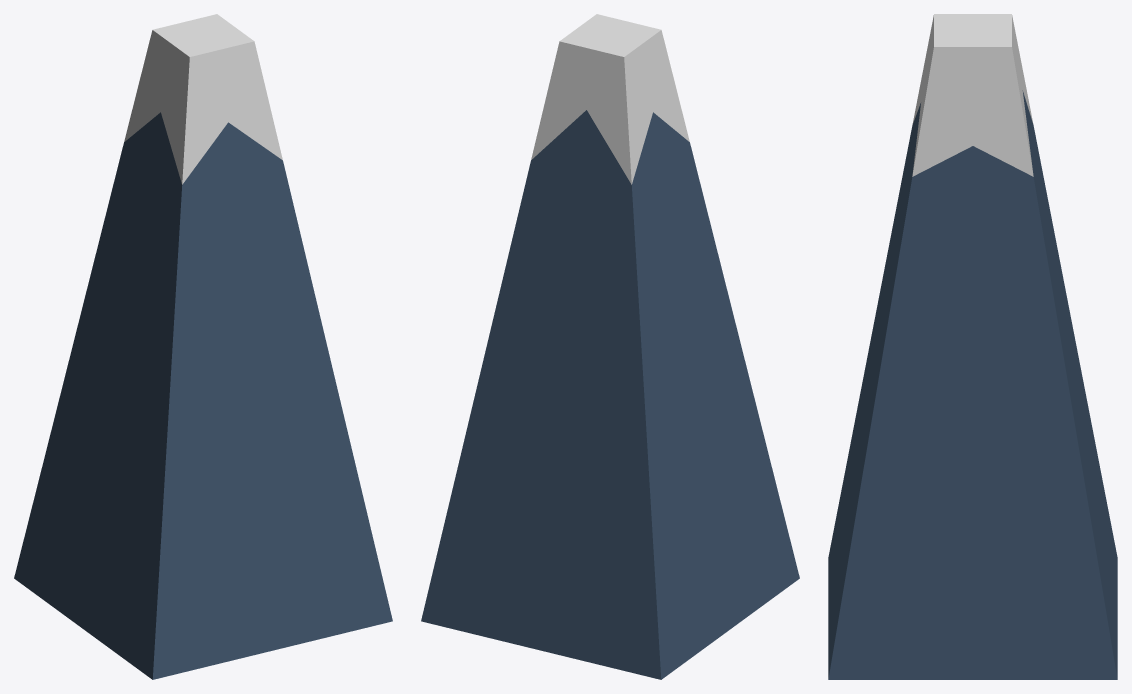
The model's file is Mountain.fbx.
3 views of the same model, side by side, from view 1: azimuth 30°, elevation 25°; view 2: azimuth 150°, elevation 25°; view 3: azimuth 270°, elevation 25° (orthographic). The views are drawn at different scales.
Parts seen in each view (by area): view 1: Mountain; view 2: Mountain; view 3: Mountain.
Part boxes in pixels (x1=…): Mountain: x1=14, y1=14, x2=392, y2=679; Mountain: x1=421, y1=14, x2=799, y2=679; Mountain: x1=828, y1=14, x2=1117, y2=679.
Size of the model in its own units: 742 by 1666 by 742.
